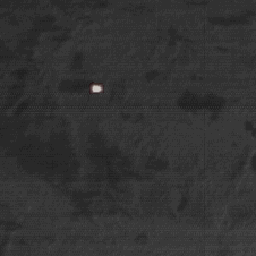Target: (89, 83, 103, 94)
